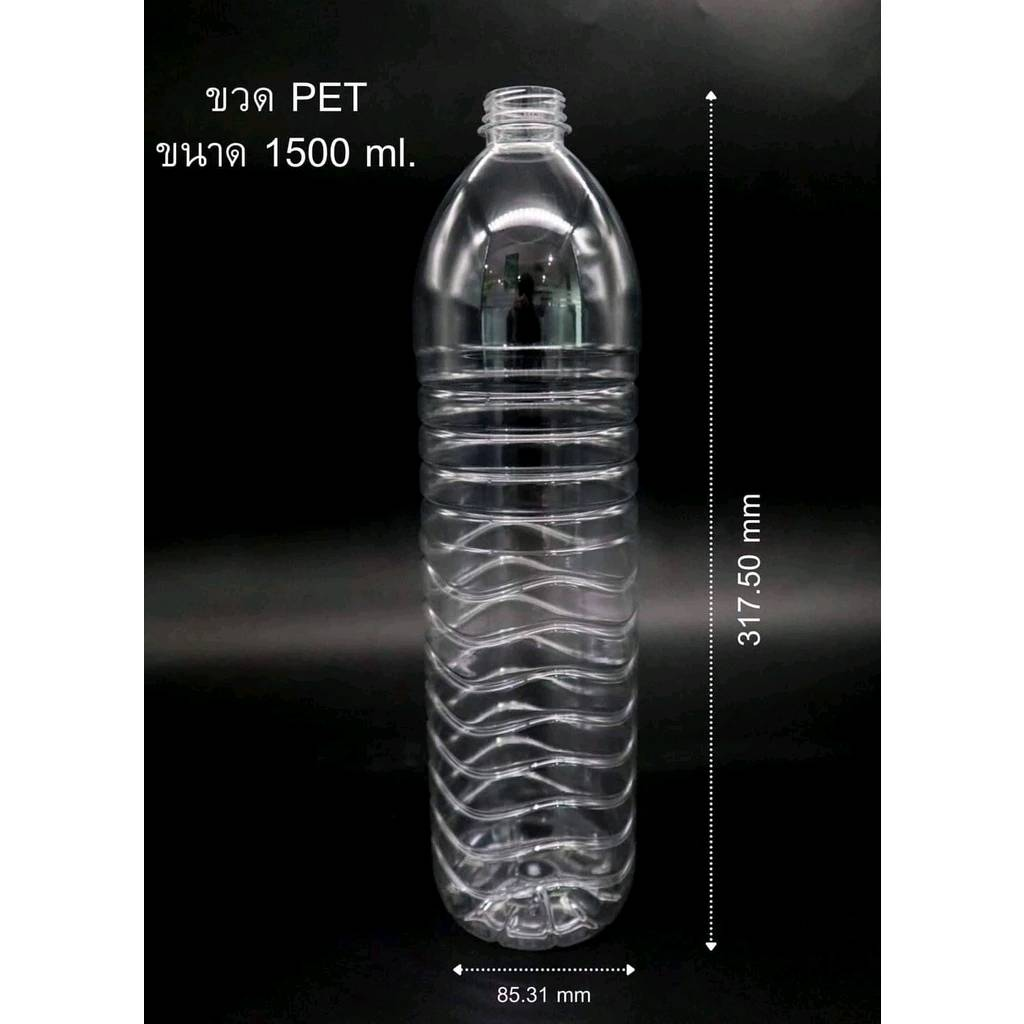plastic_bottle: (399, 71, 648, 959)
